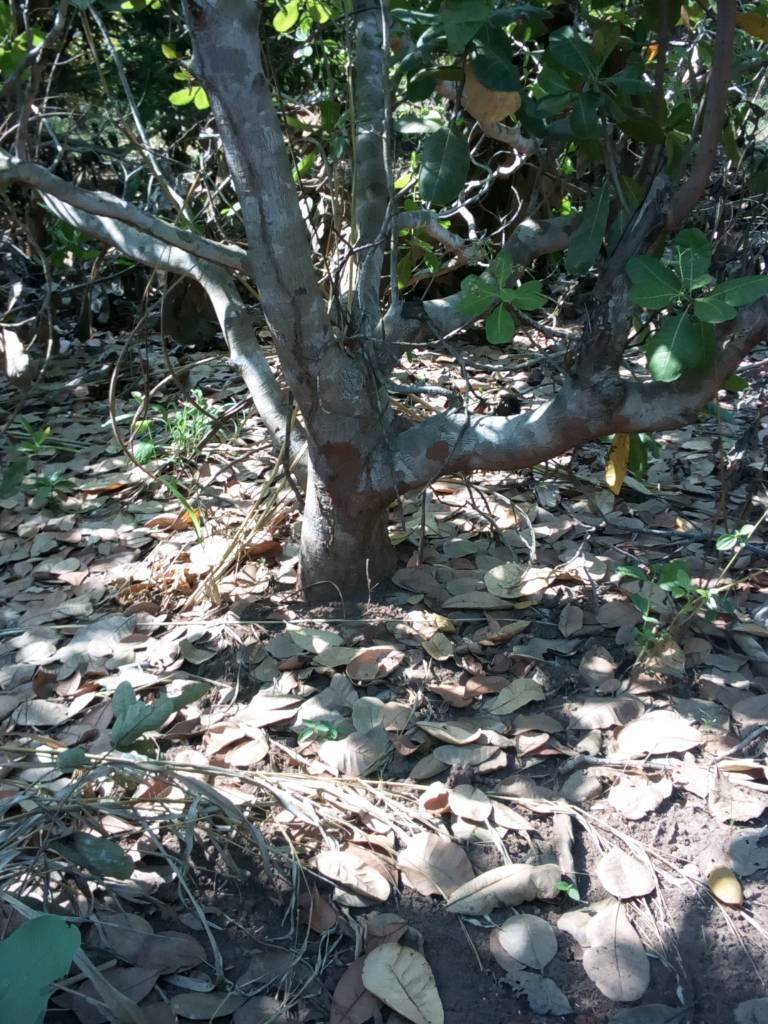Termites: (236, 122, 322, 416)
